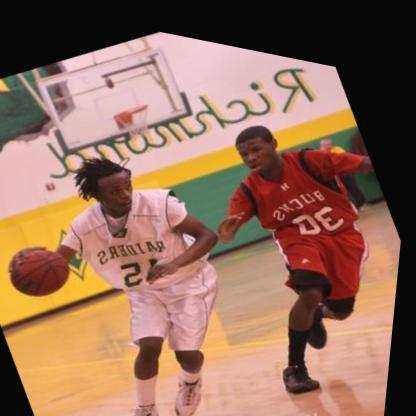basketball: (2, 226, 86, 312)
